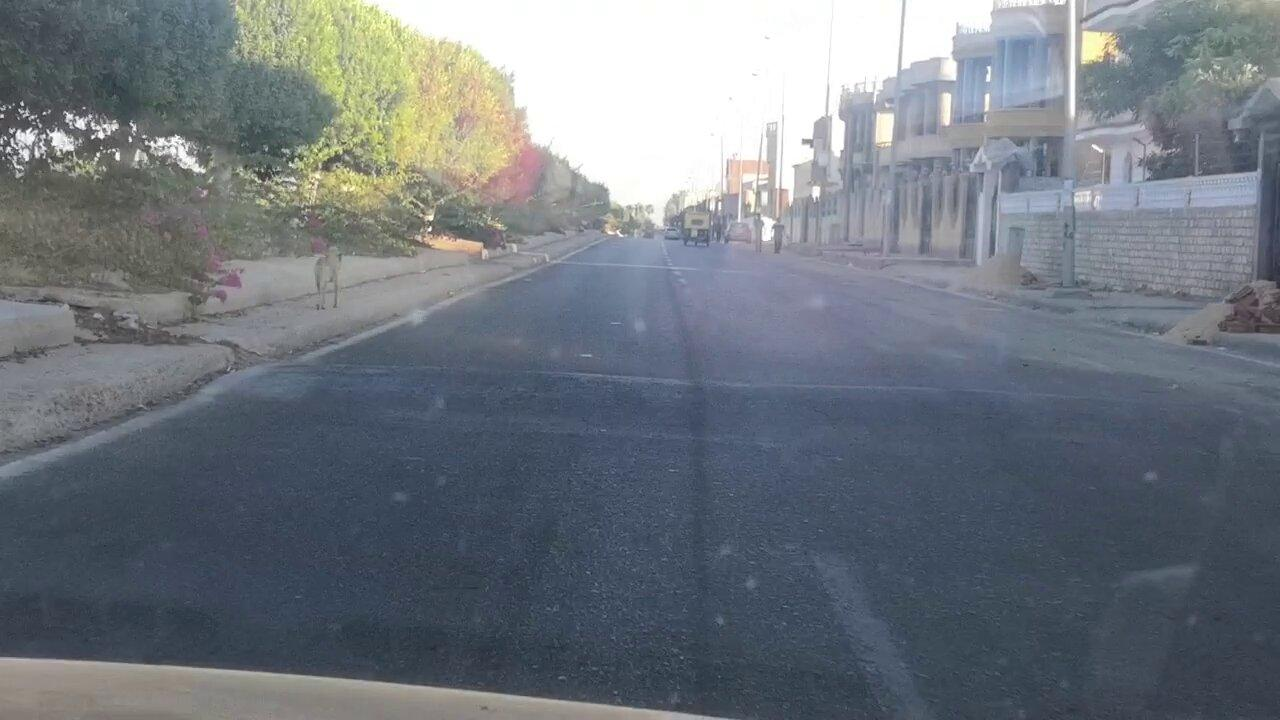Bump: (183, 357, 1259, 458)
